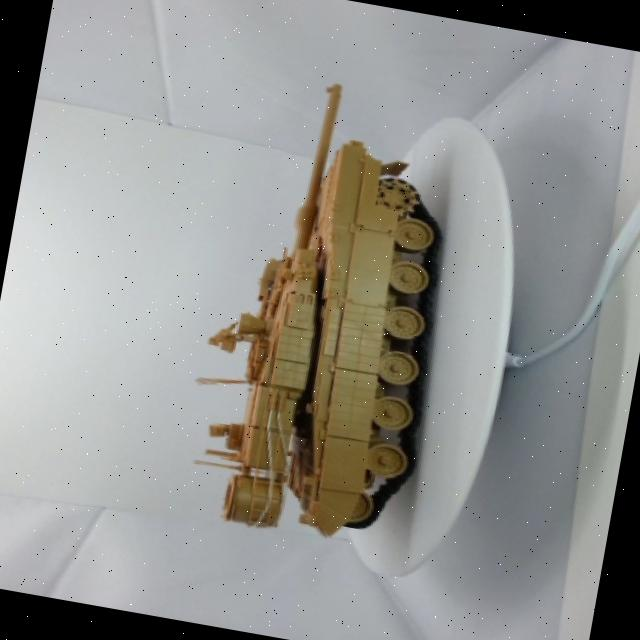korea tank: (154, 52, 494, 562)
